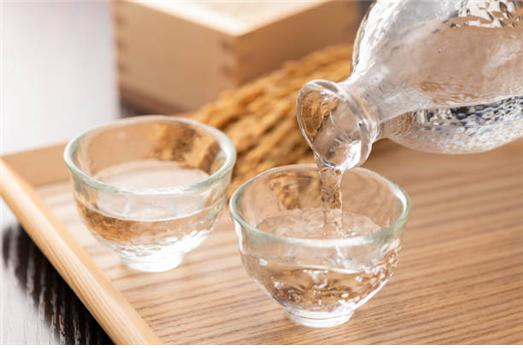alcohol: (297, 0, 522, 172), (228, 162, 410, 330), (61, 114, 236, 278)
